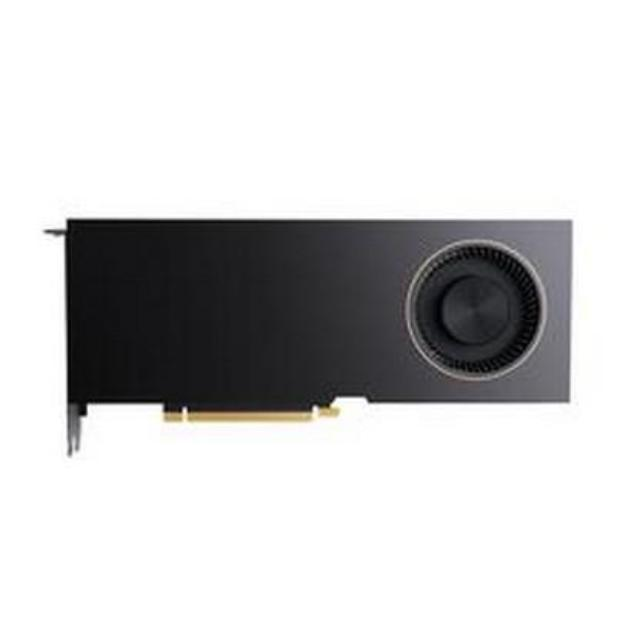GPU: (50, 206, 582, 432)
